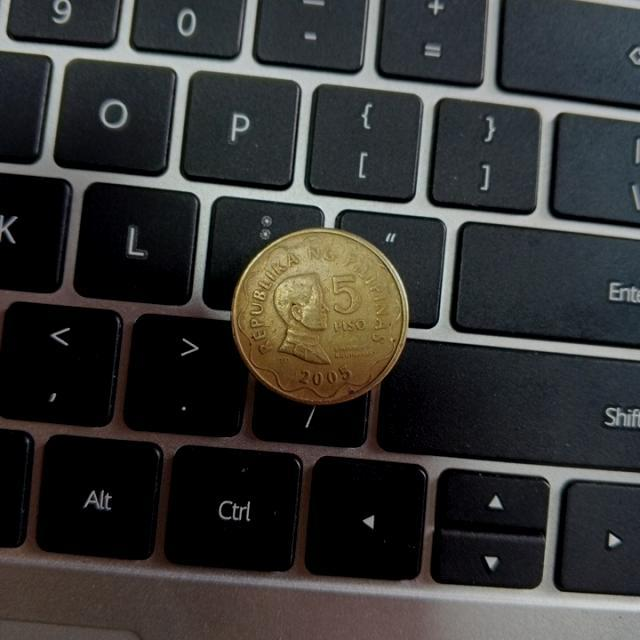5 peso-old: (218, 217, 424, 411)
